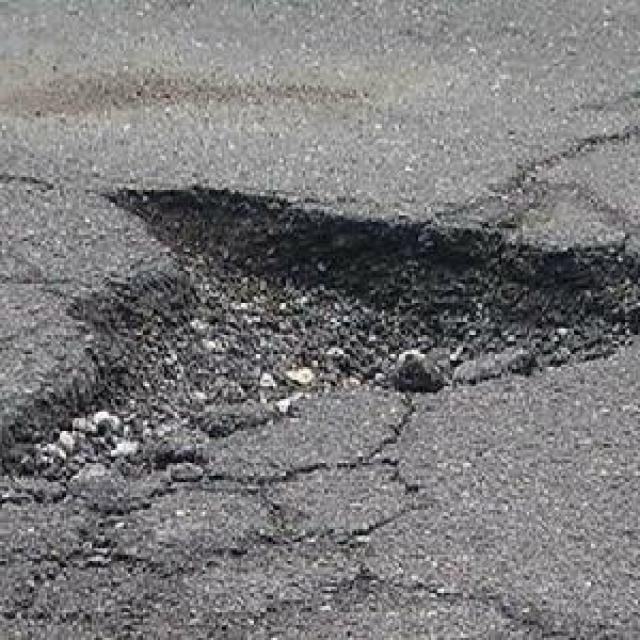pothole: (2, 180, 640, 510)
